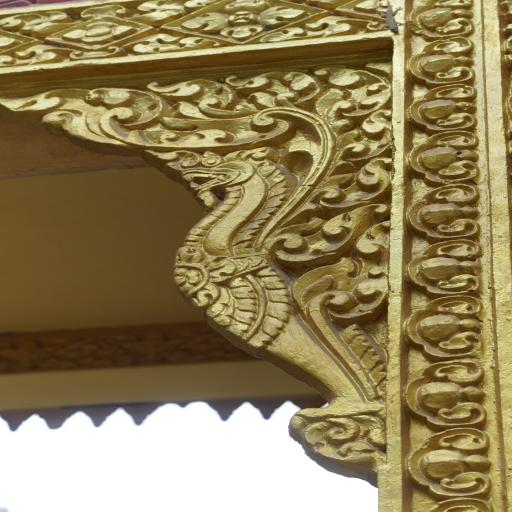hoa: (174, 0, 302, 41), (46, 16, 139, 47)
la: (0, 85, 123, 155), (396, 426, 496, 494), (394, 355, 488, 422), (300, 255, 389, 324), (400, 294, 492, 358), (145, 71, 252, 124), (410, 235, 488, 297), (407, 181, 486, 236), (78, 29, 208, 60), (319, 62, 385, 123), (90, 76, 172, 125), (283, 199, 353, 255), (399, 129, 475, 180), (393, 82, 477, 128), (234, 64, 312, 110), (403, 36, 479, 82), (325, 154, 391, 204), (260, 16, 366, 42), (407, 0, 473, 40), (347, 117, 390, 170), (82, 0, 179, 21)
ran: (154, 143, 394, 487)
